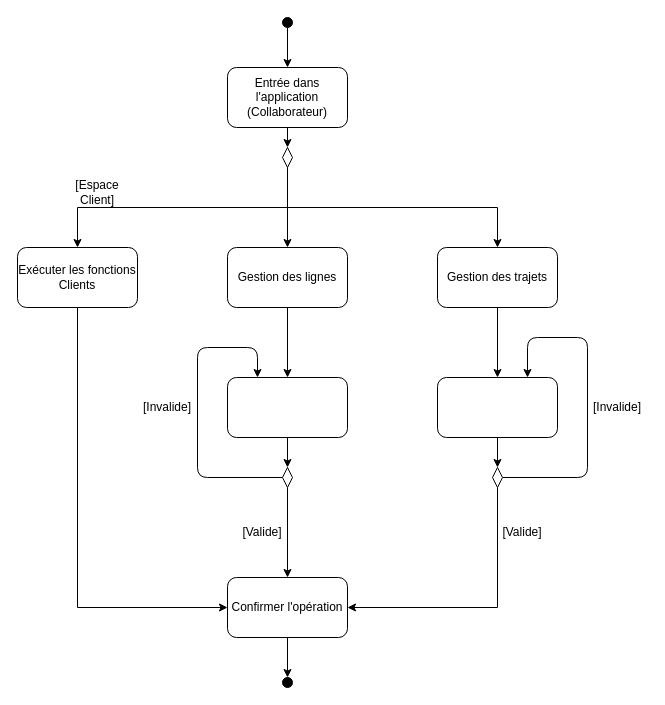
Some shapes in this 665 by 705 pixel diagram are drawn without their labels. Here are the shapes that lost their labels. From the top down, the centre of each, then its label:
At (287,407): "Saisir gare de départ/arrivée".
At (497,407): "Saisir trajet, date et tarif".
